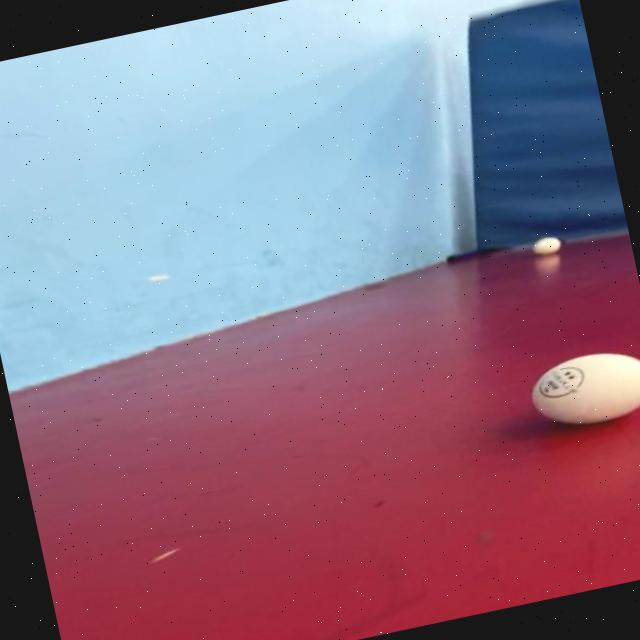ping-pong-ball: (517, 338, 640, 437), (526, 230, 568, 260)
